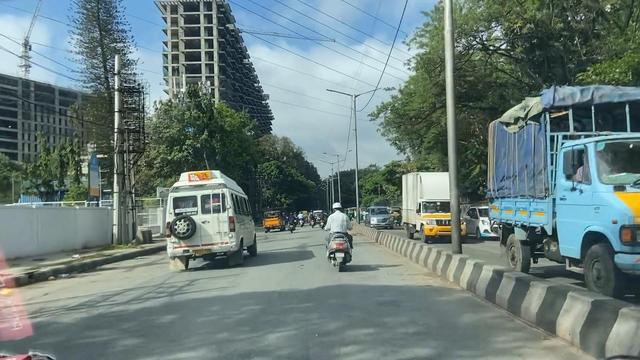HMV: (164, 166, 262, 267)
LMV: (314, 205, 354, 271)
